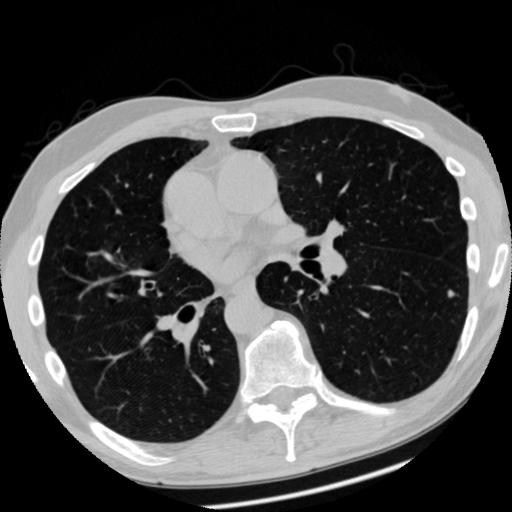nodule: (445, 286, 461, 302)
